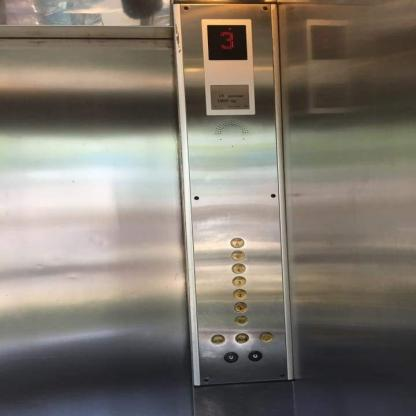1: (232, 300, 247, 312)
2: (231, 288, 247, 299)
3: (231, 275, 246, 286)
4: (230, 262, 246, 273)
5: (229, 249, 244, 260)
6: (228, 236, 244, 248)
alarm: (257, 330, 273, 342)
blur: (232, 314, 248, 325)
close: (233, 332, 248, 343)
keyhole: (246, 349, 262, 361), (222, 351, 237, 362)
led: (203, 21, 249, 63)
open: (209, 333, 225, 344)
